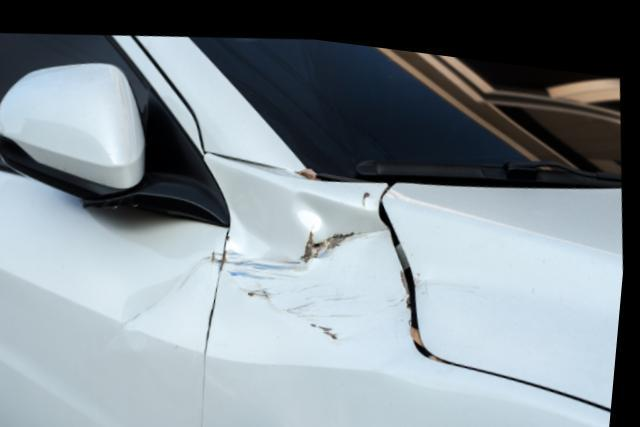dent: (227, 185, 409, 325), (128, 257, 205, 345)
